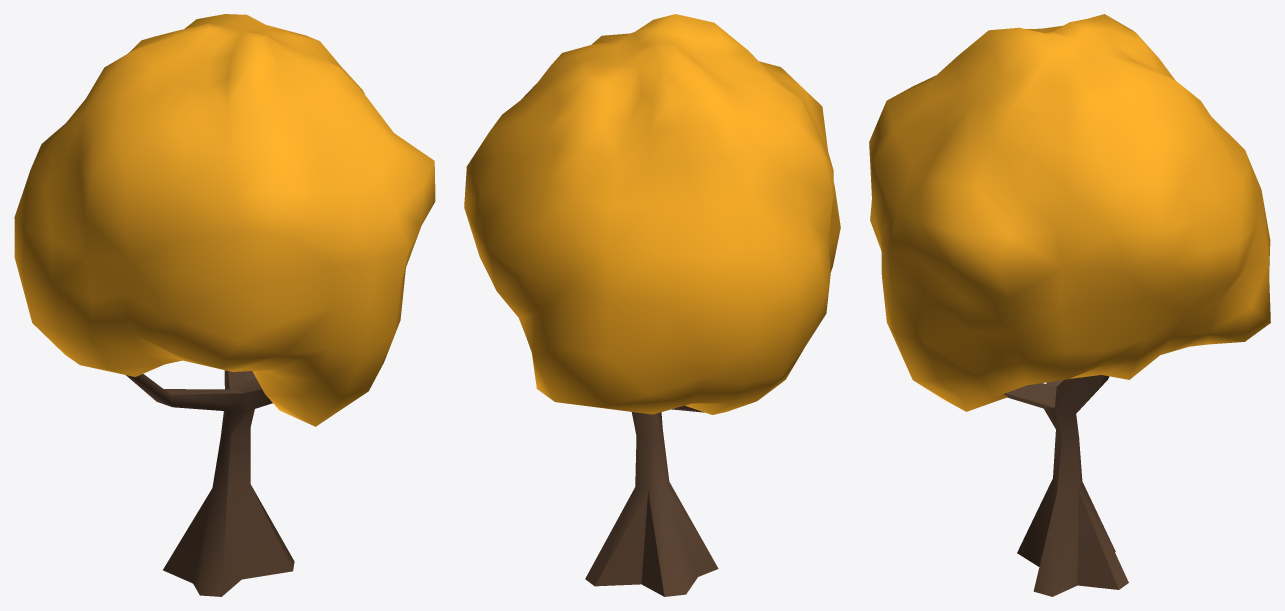
File: Tree4.fbx
3 views of the same model, side by side, from view 1: azimuth 30°, elevation 25°; view 2: azimuth 150°, elevation 25°; view 3: azimuth 270°, elevation 25° (orthographic).
Parts seen in each view (by area): view 1: Tree_2I001; view 2: Tree_2I001; view 3: Tree_2I001.
Boxes of the visible parts, bbox=[...] form: Tree_2I001: bbox=[14, 14, 435, 596]; Tree_2I001: bbox=[464, 14, 840, 596]; Tree_2I001: bbox=[869, 14, 1270, 596].
Size of the model in its own units: 10195 by 15688 by 10535.
